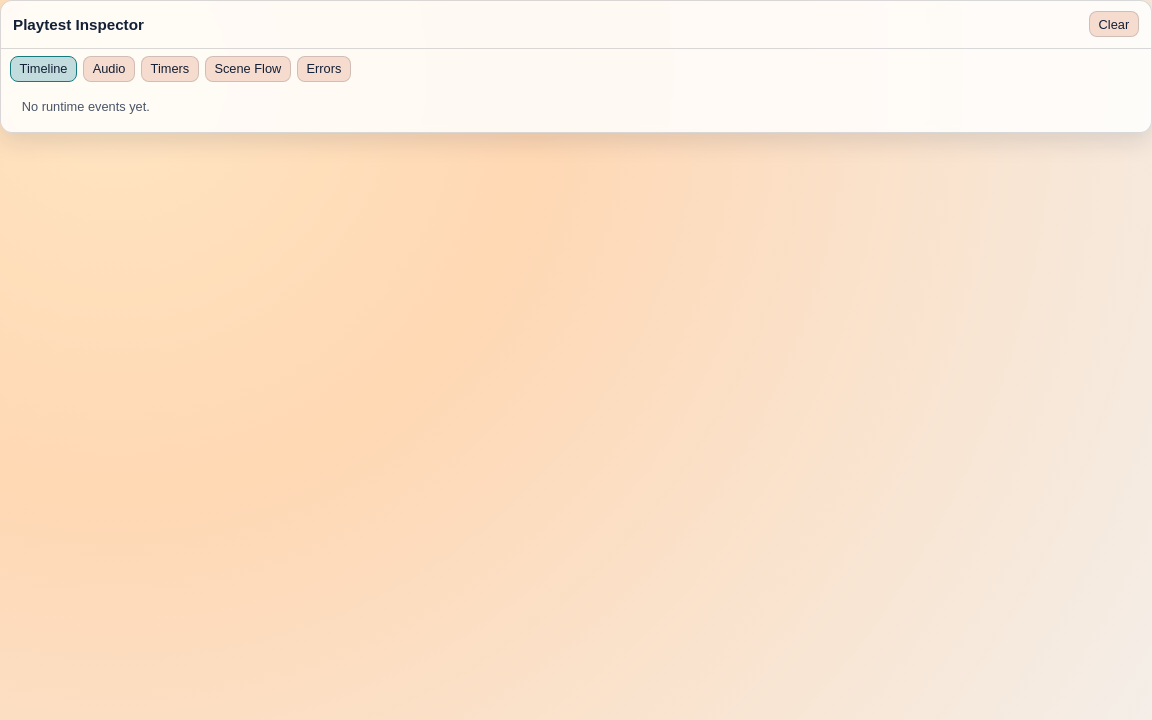
Scenario: PlaytestInspectorPanel › Audio tab shows empty state when no snapshot
Click the button "Audio" at (109, 69), box [83,56,135,82]
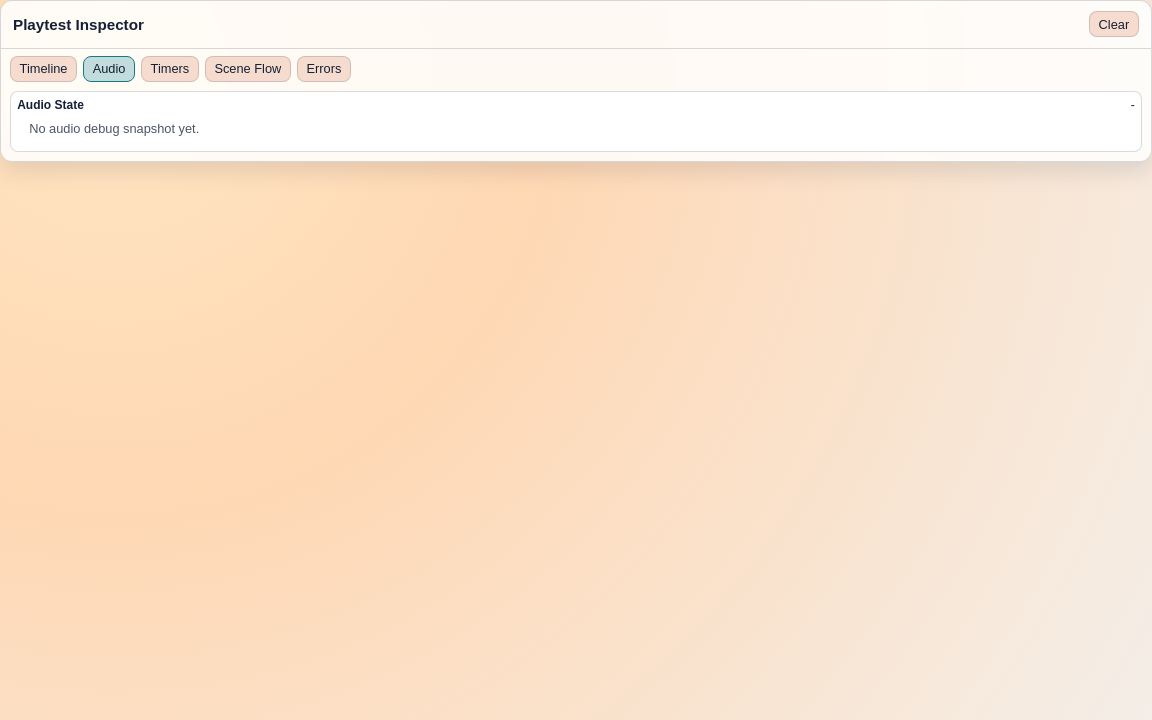
Result: the text "No audio debug snapshot yet." is shown at [29,121,199,136]
